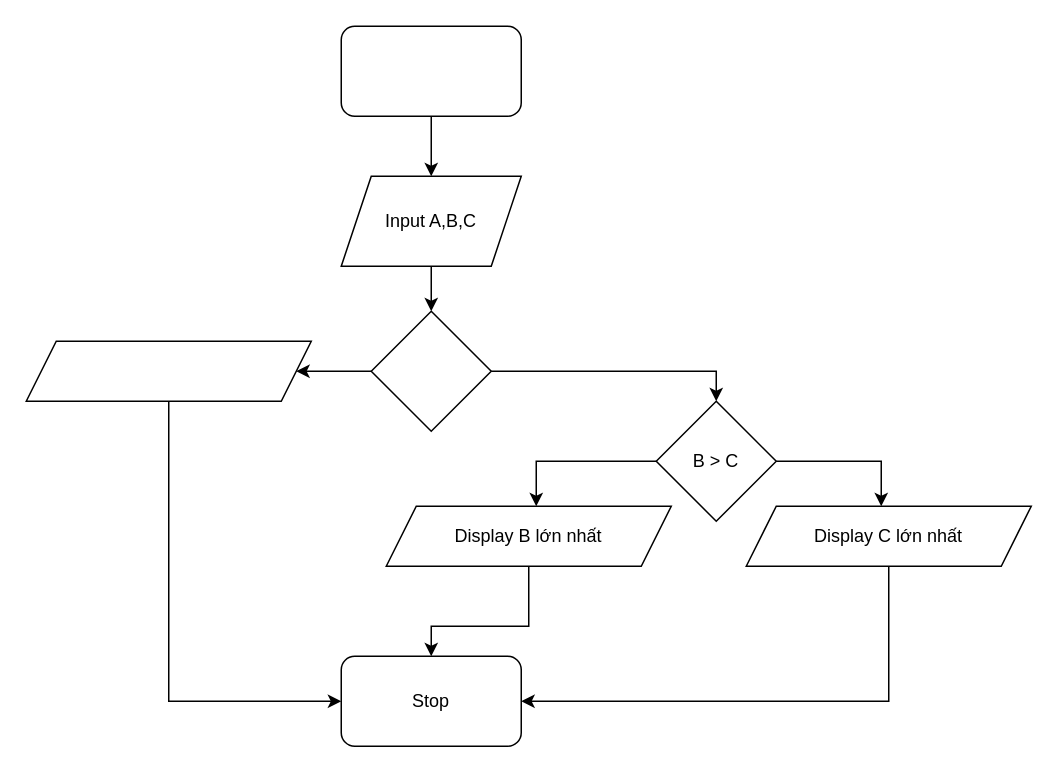
Image size: 1058x773. Some labels were removed from this diagram. Here are the shapes that lost their labels. From the top down, the centre of each, then its label:
At (x=430, y=70): "Start".
At (x=168, y=370): "Display A lớn nhất".
At (x=430, y=370): "A>B,C".
